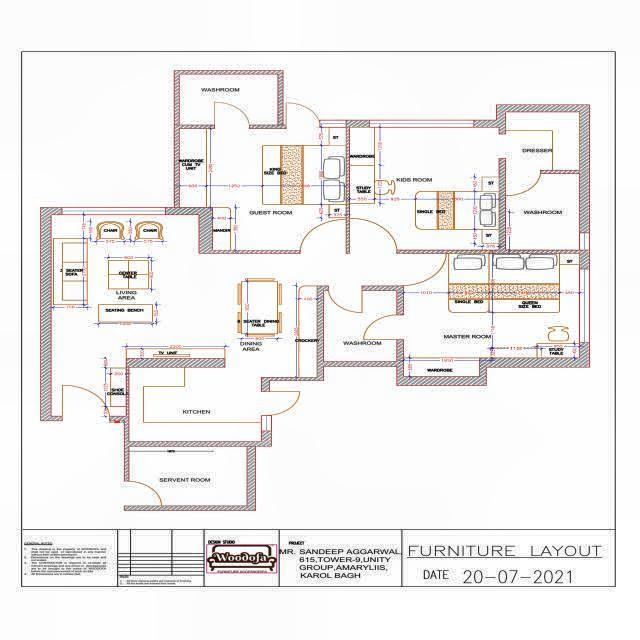room: (51, 215, 224, 416), (405, 254, 581, 377), (178, 128, 345, 250), (351, 129, 498, 248), (228, 253, 316, 378), (130, 369, 260, 441), (130, 446, 247, 506), (508, 175, 578, 248), (325, 292, 397, 361), (180, 75, 278, 123), (507, 112, 578, 169)
